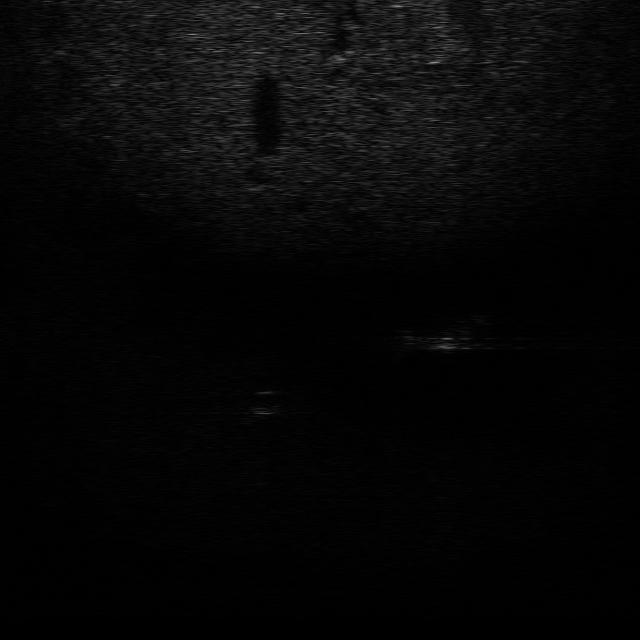ball: (246, 386, 290, 418)
human body: (389, 311, 499, 361)
